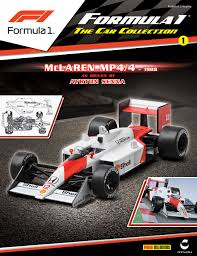f1_car: (5, 94, 191, 208), (136, 175, 197, 221)
